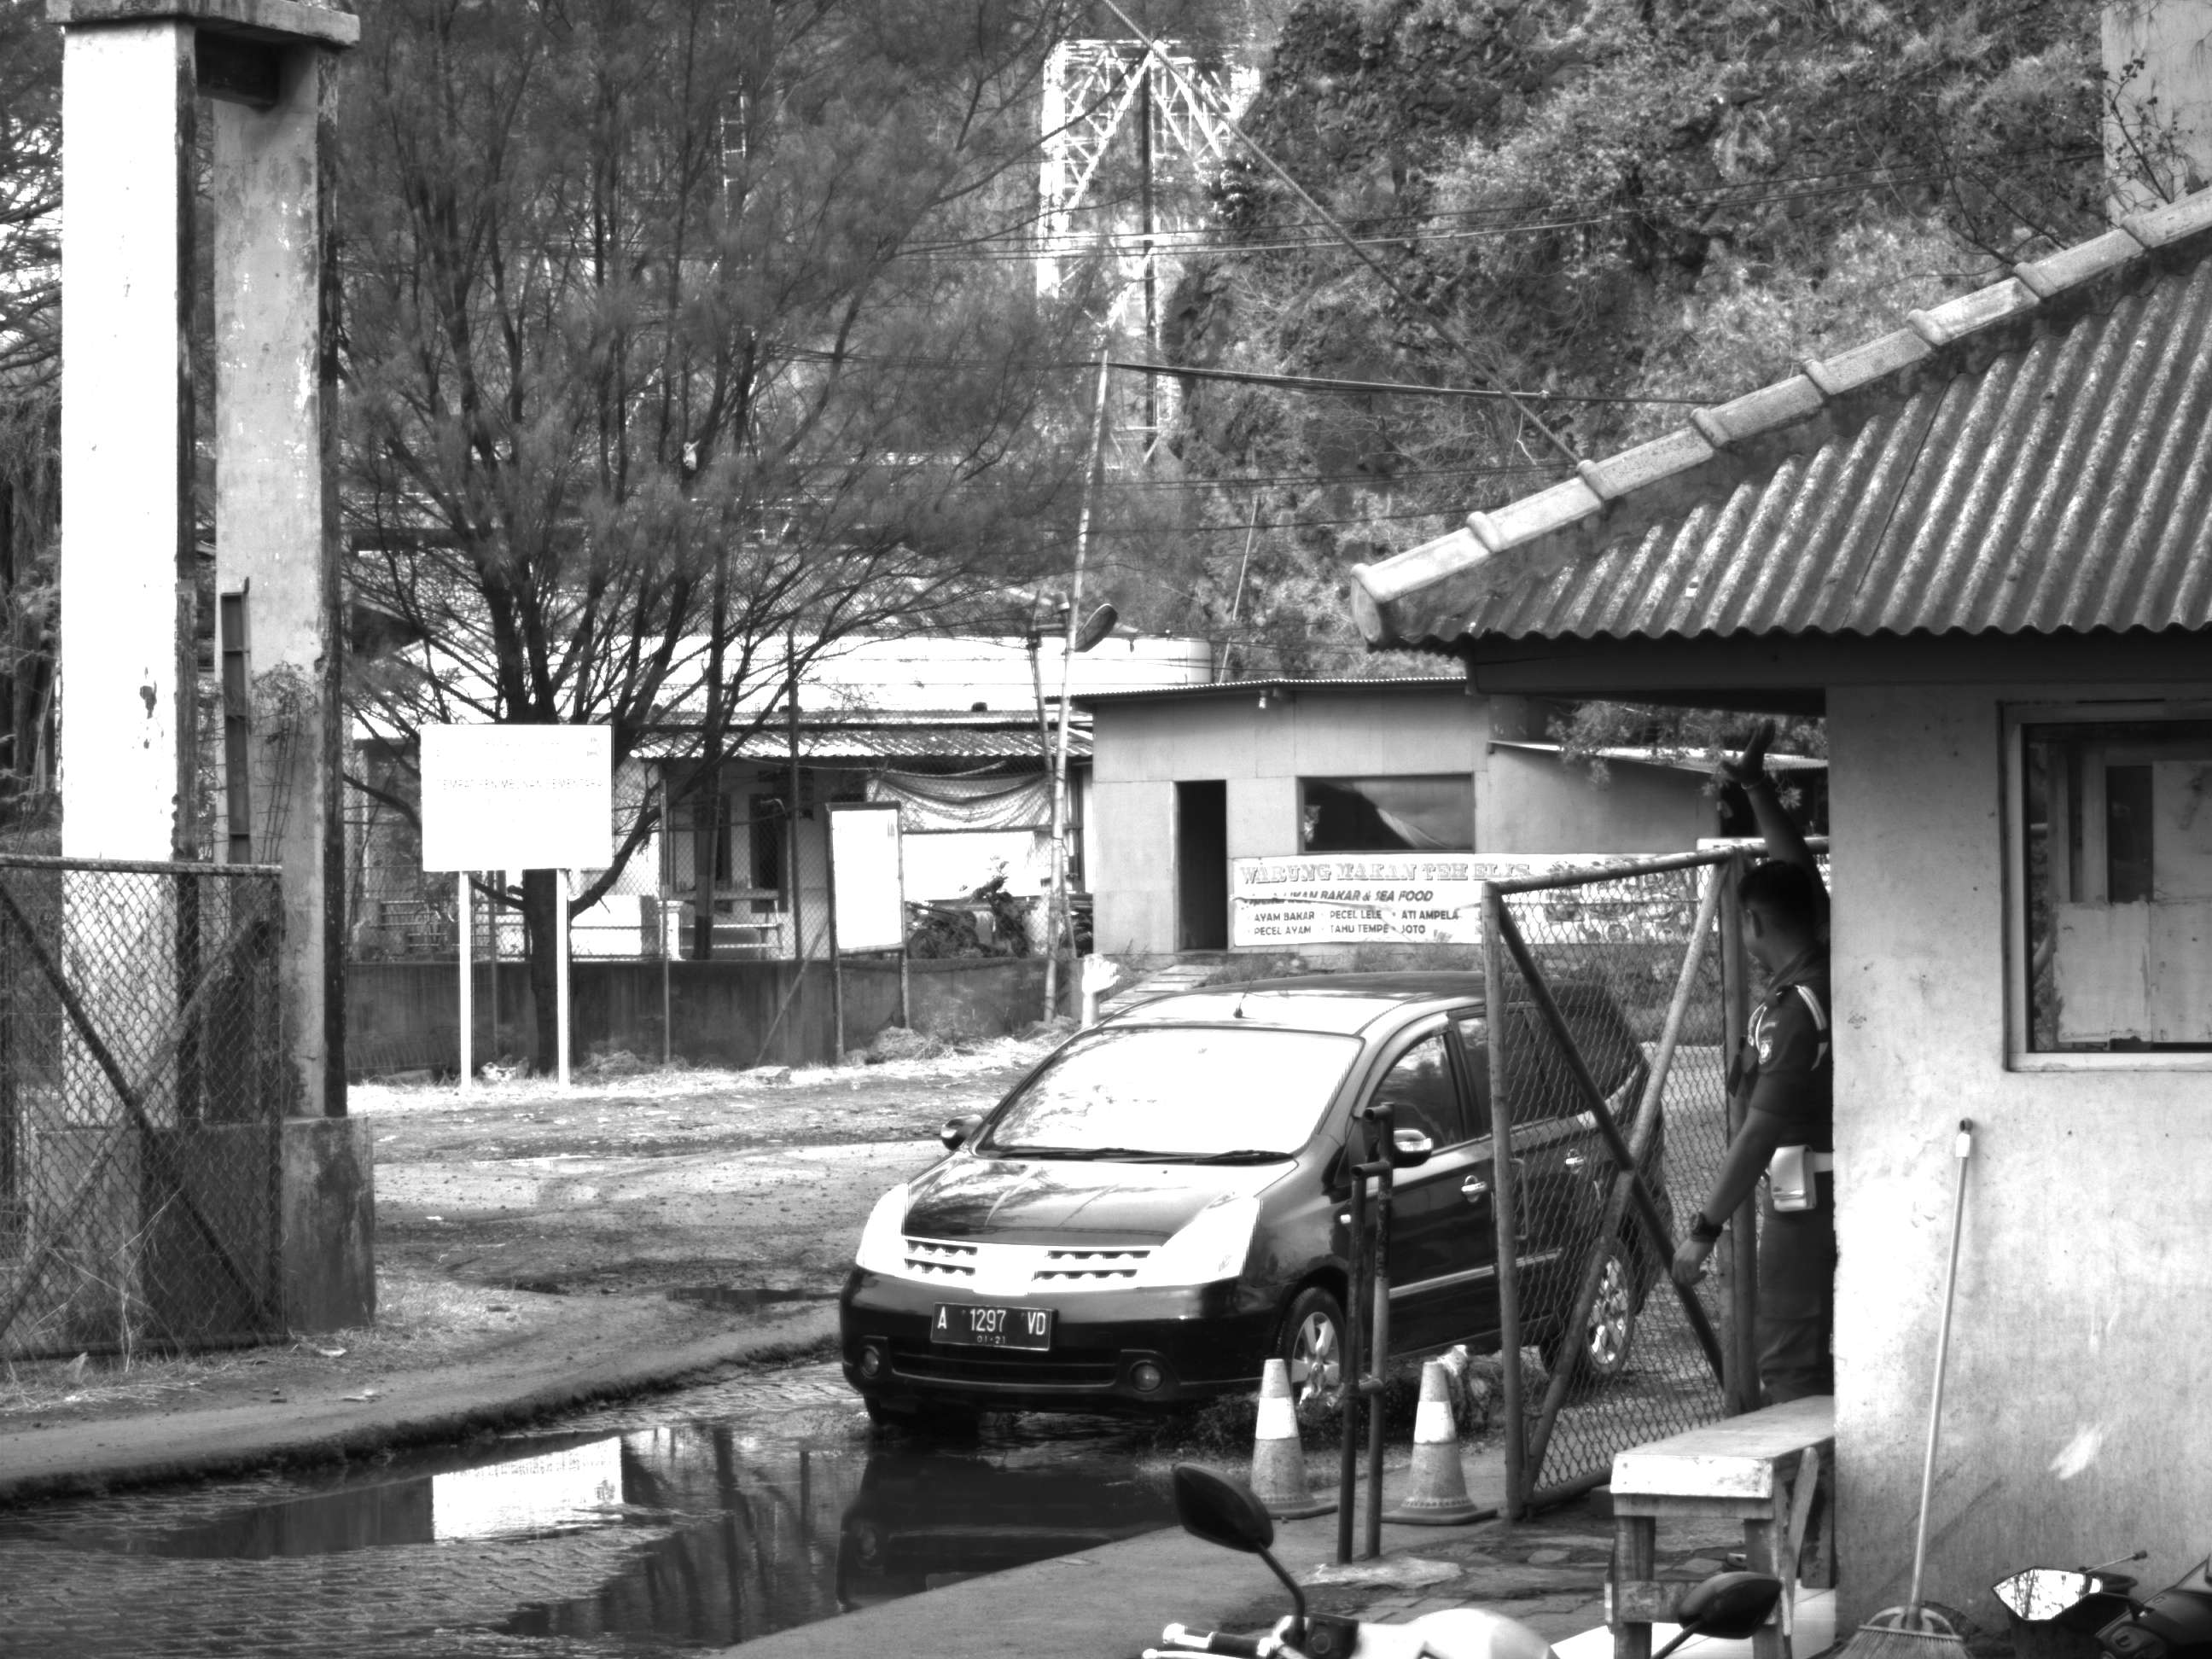day_small_front: (838, 973, 1426, 1456)
plate: (927, 1300, 1057, 1353)
